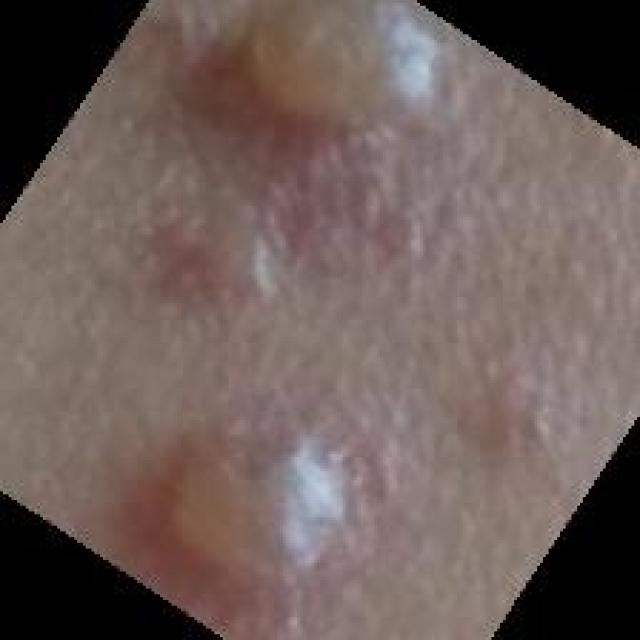others: (109, 5, 472, 591)
